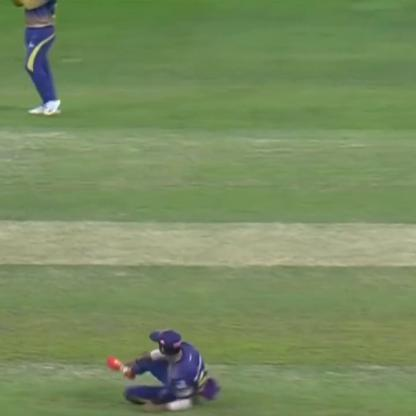ball: (114, 362, 133, 376)
